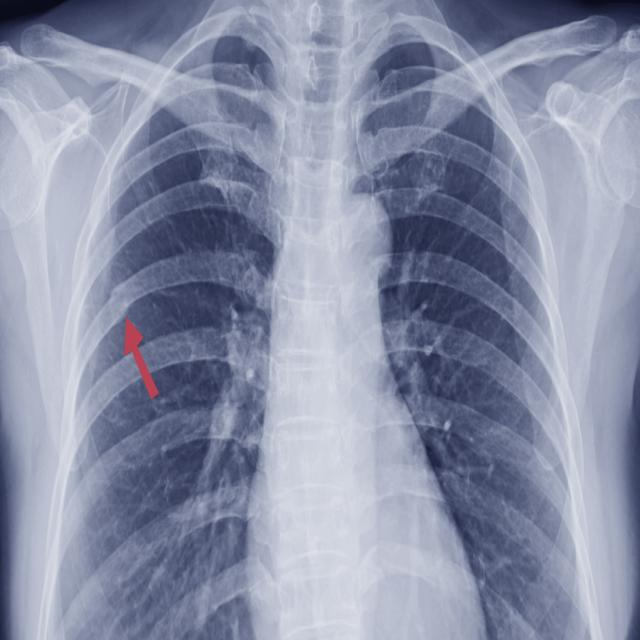bone: (101, 283, 144, 341)
